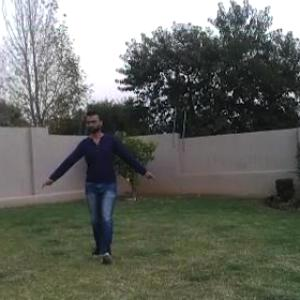land: (31, 98, 166, 276)
